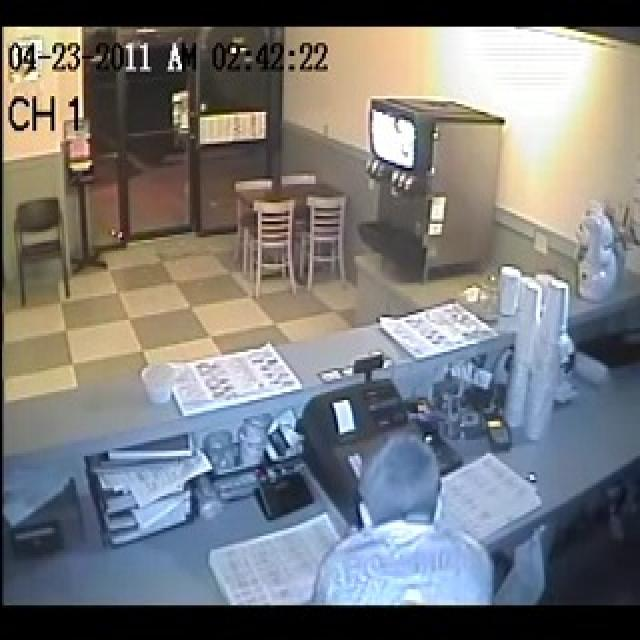thief: (301, 428, 499, 602)
